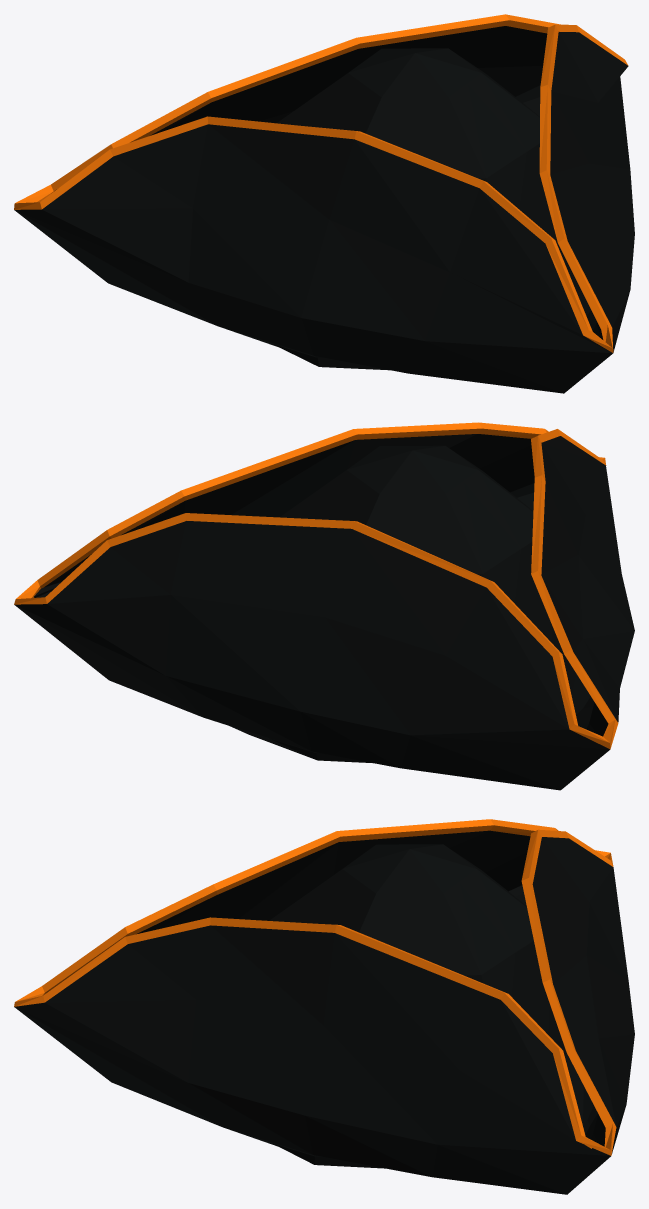
Rendered from pirate hat.obj.
The picture shows the model from 3 angles, top to bottom: view 1: azimuth 30°, elevation 25°; view 2: azimuth 150°, elevation 25°; view 3: azimuth 270°, elevation 25°; orthographic projection.
Bounding box in the file's own units: 5.03 × 2 × 4.45.
